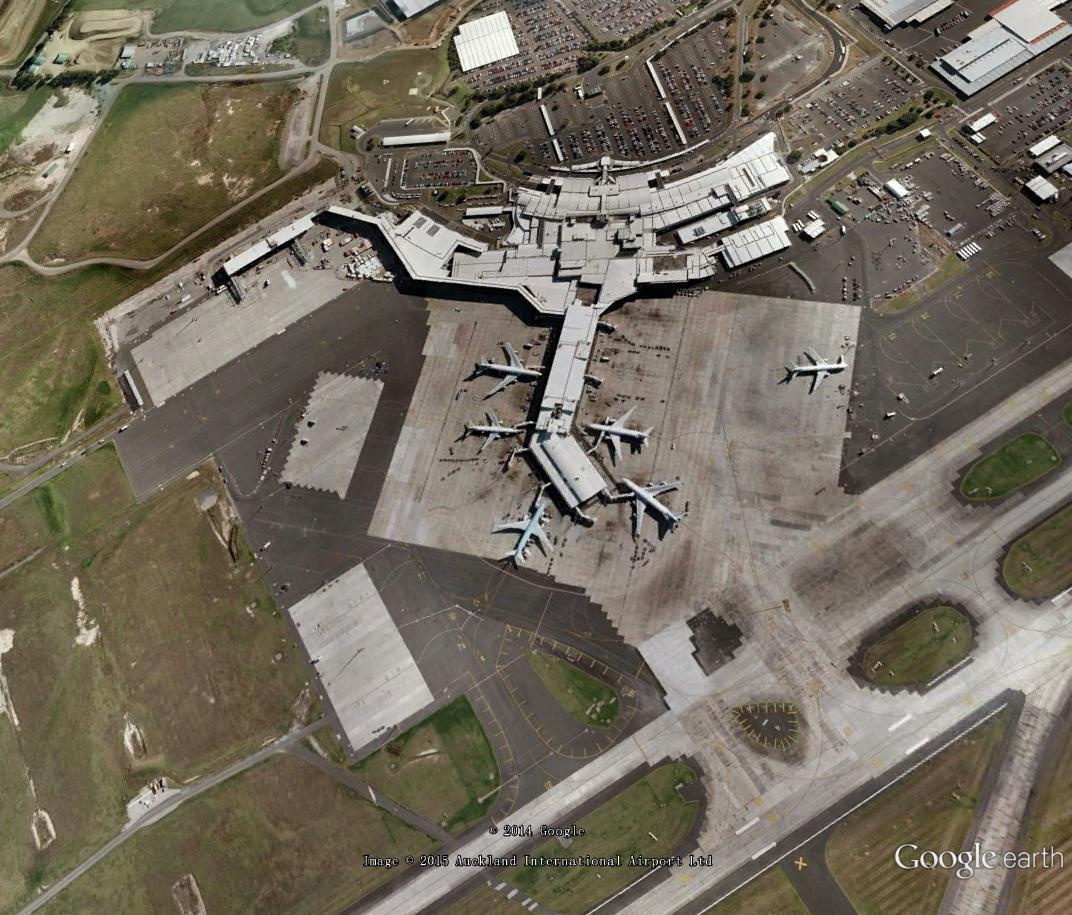aircraft: (463, 340, 553, 402), (615, 468, 688, 543), (583, 402, 663, 466), (493, 498, 558, 570), (460, 405, 529, 457), (787, 342, 852, 397)
